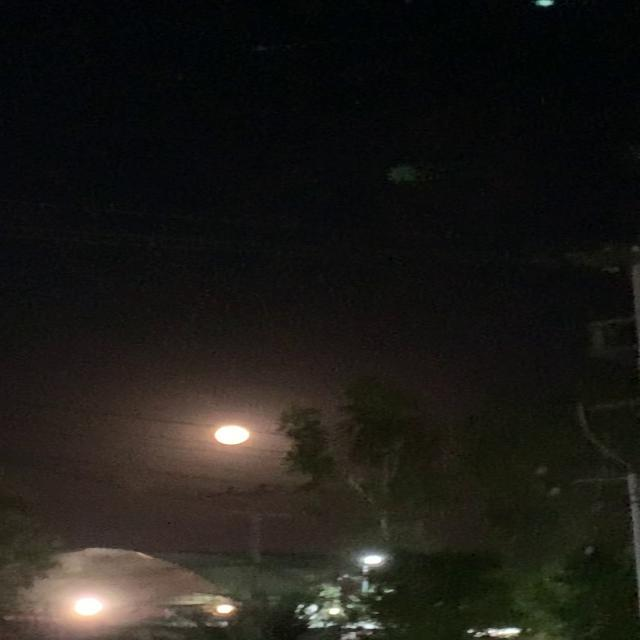moon: (208, 422, 250, 446)
